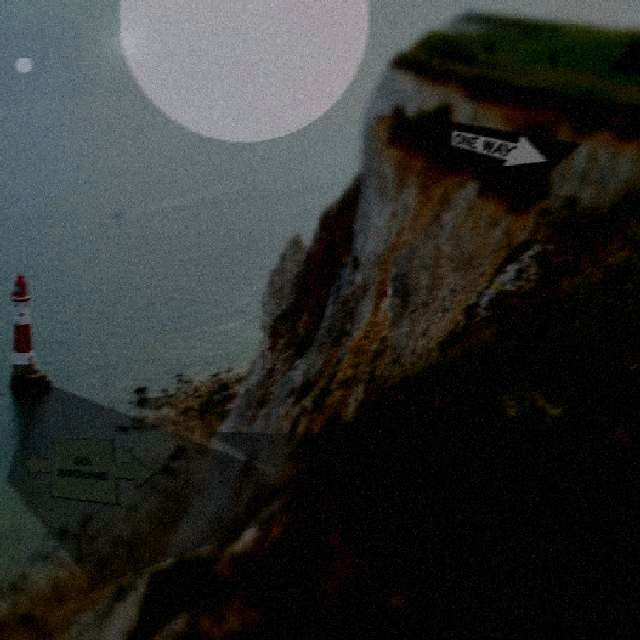GO_AROUND: (21, 437, 155, 505)
ONE_WAY_ right: (447, 120, 581, 178)
